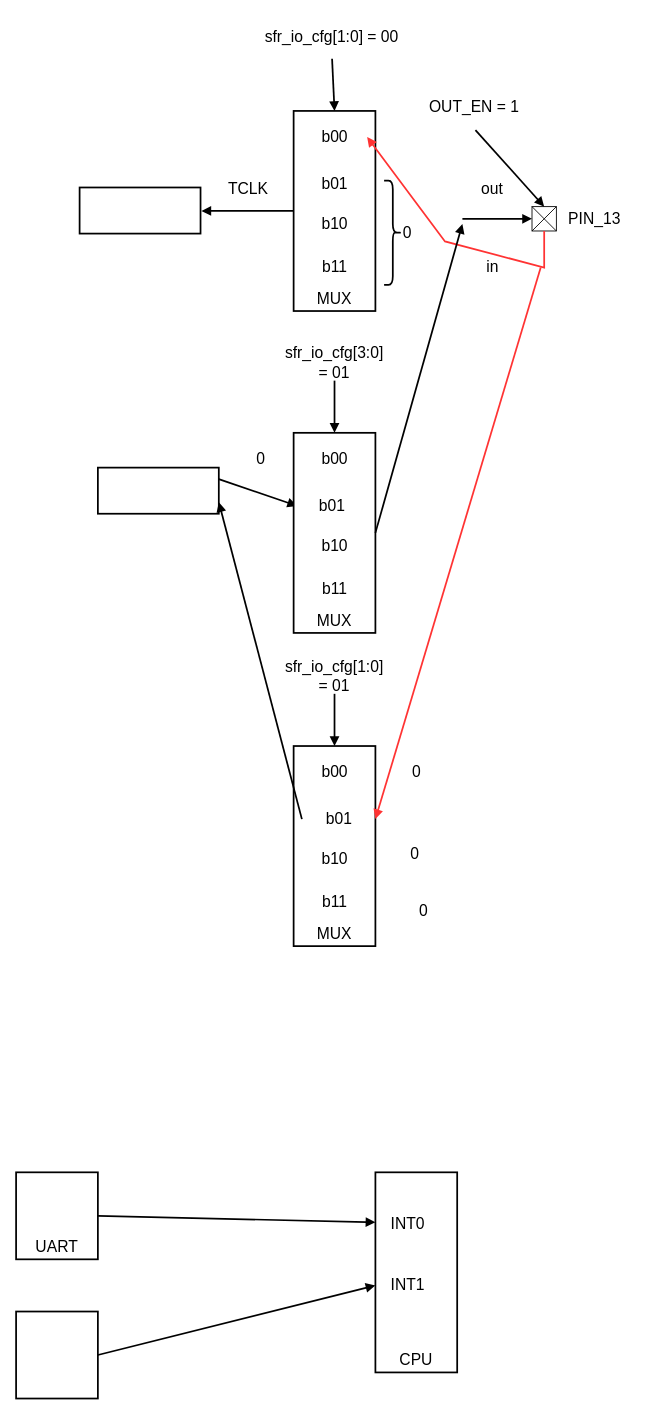
The diagram is 653 pixels wide and 1414 high, and some of its shapes have lost their labels. The shapes that lost their labels are listed below. From the top down, each one's centre as x and y in pixels, then its label:
pixel 139 210: JTAG
pixel 158 490: GPIO
pixel 56 1354: SPI
